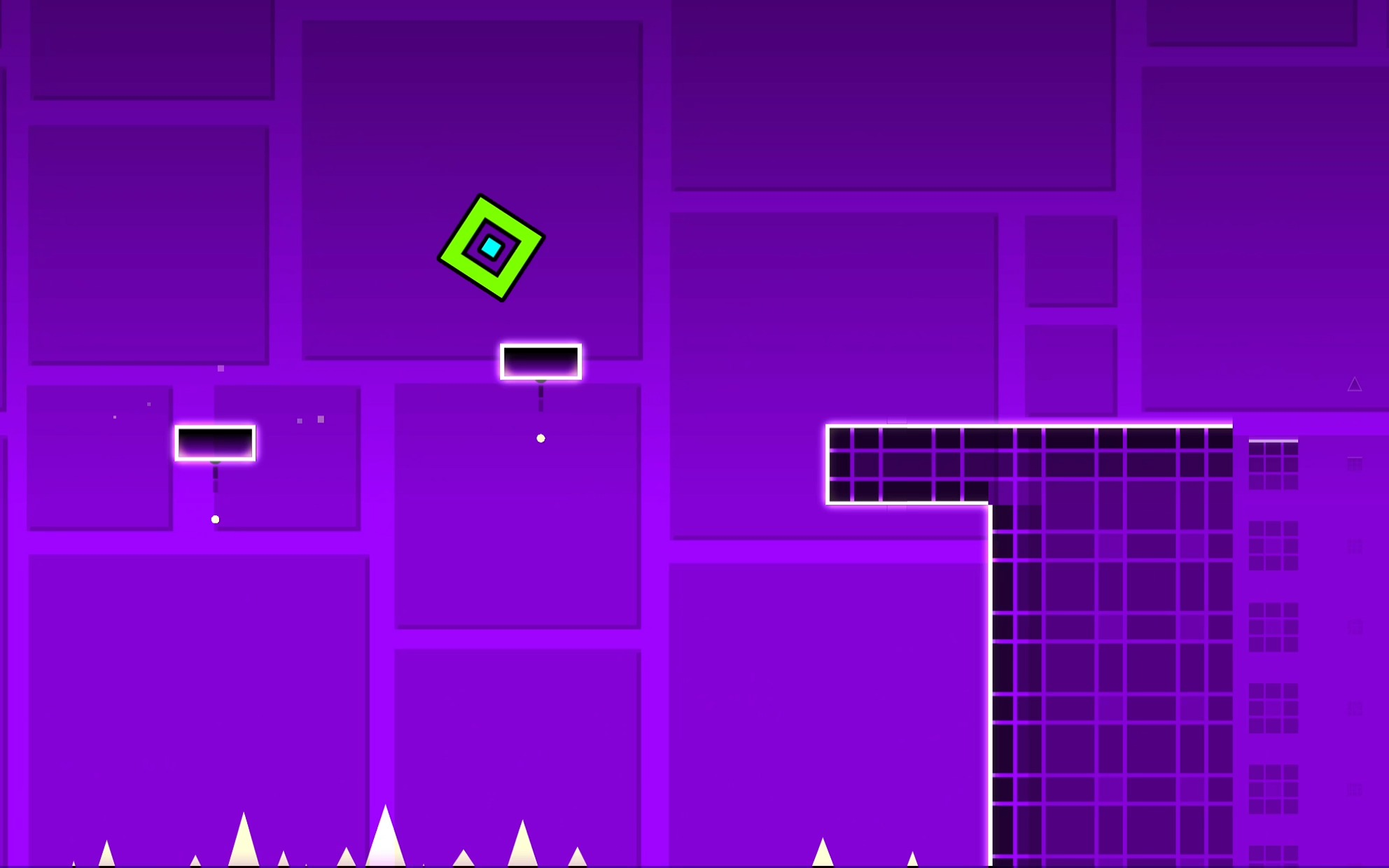Block2: (994, 424, 1240, 863), (829, 426, 997, 502)
Block3: (500, 343, 582, 382), (174, 424, 256, 462)
Player: (439, 195, 545, 300)
